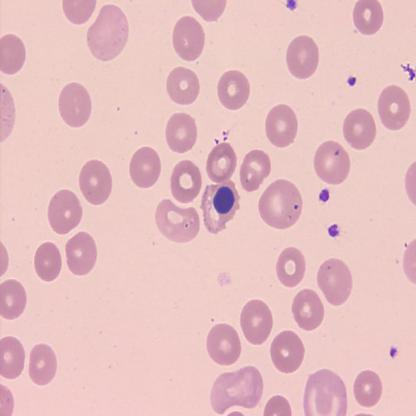NRC: (212, 184, 236, 216)
